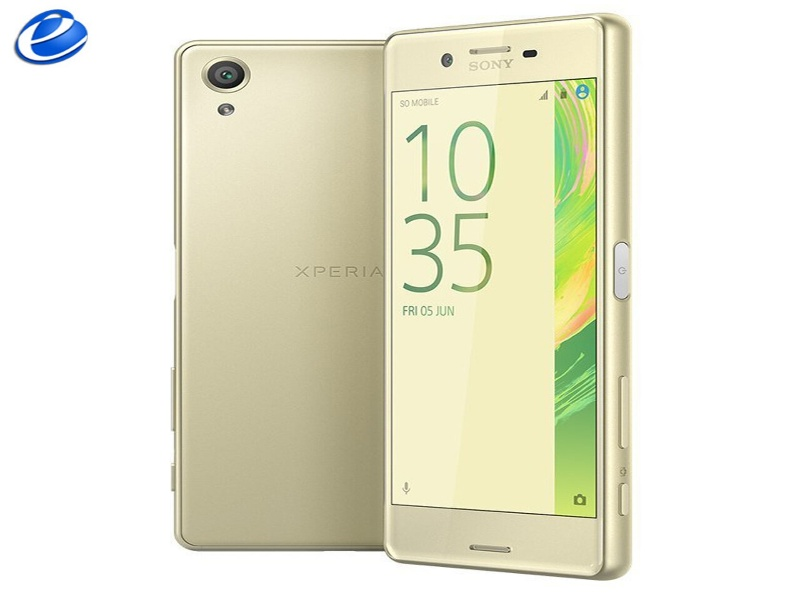mobile: (371, 14, 652, 595), (166, 27, 396, 570)
